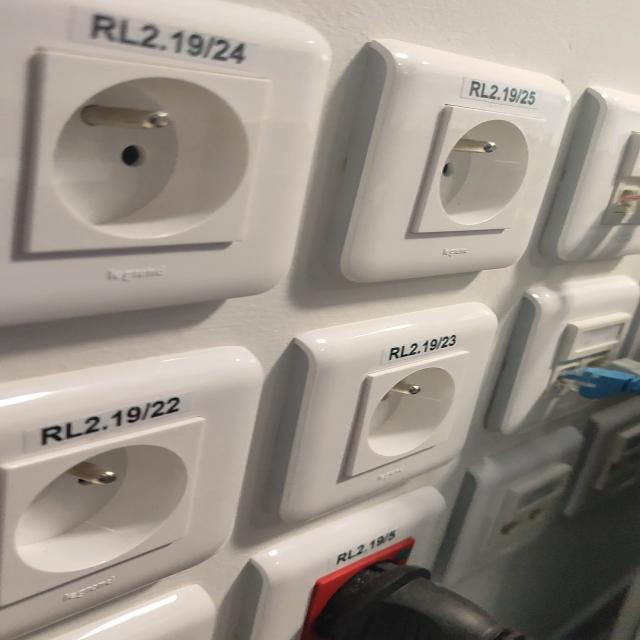house plug: (21, 48, 273, 253), (0, 418, 205, 608), (417, 105, 545, 233), (350, 352, 469, 475)
